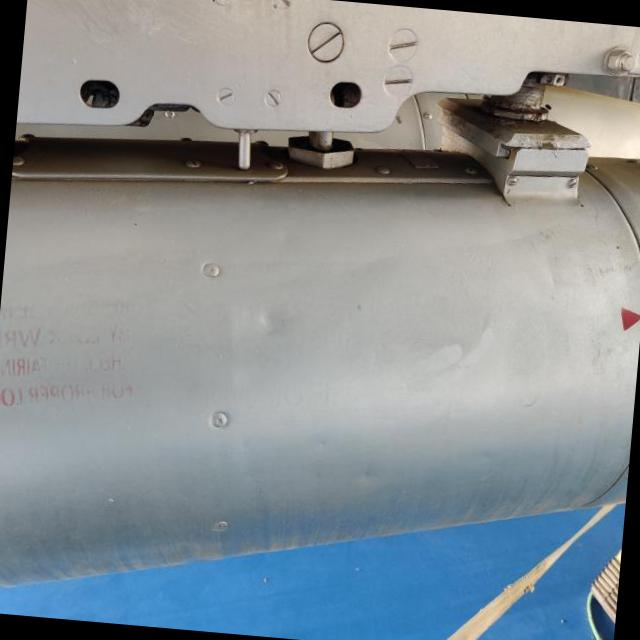Dent: (232, 293, 301, 351)
